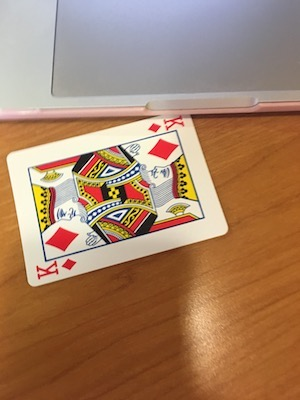KingOfDiamonds: (1, 105, 234, 292)
